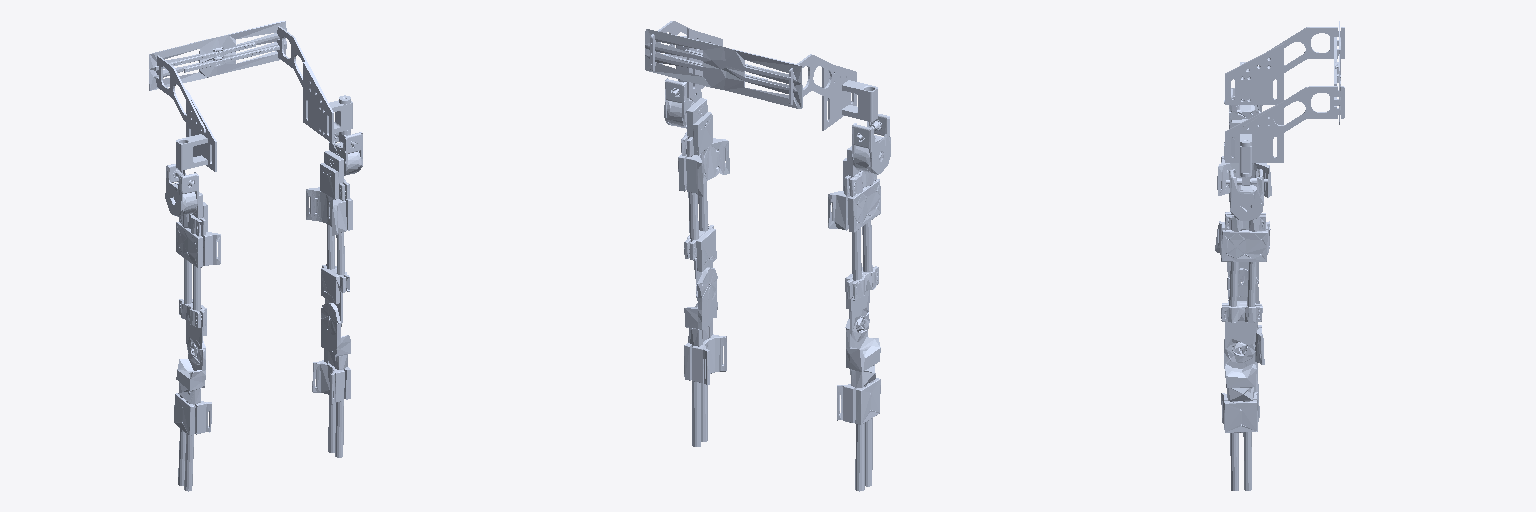
URDF robot description (assembly):
<?xml version="1.0" encoding="utf-8"?>
<!-- This URDF was automatically created by SolidWorks to URDF Exporter! Originally created by Stephen Brawner (brawner@gmail.com) 
     Commit Version: 1.6.0-4-g7f85cfe  Build Version: 1.6.7995.38578
     For more information, please see http://wiki.ros.org/sw_urdf_exporter -->
<robot name="assembly">
  <!-- MuJoCo-ready copy: Back_Plate COM fixed (exporter had it rotated 90 deg about x); meshes decimated to <=20k faces. -->
  <mujoco>
    <compiler discardvisual="false" fusestatic="false"/>
  </mujoco>
  <link
    name="Back_Plate_Link">
    <inertial>
      <origin
        xyz="0.714903 -1.346701 0.967937"
        rpy="0 0 0" />
      <mass
        value="0.792603624113177" />
      <inertia
        ixx="0.00122103079827944"
        ixy="6.22905706953202E-12"
        ixz="9.44022368871922E-13"
        iyy="0.0140755252395713"
        iyz="-8.39352655854368E-13"
        izz="0.0152909410531872" />
    </inertial>
    <visual>
      <origin
        xyz="0 0 0"
        rpy="0 0 0" />
      <geometry>
        <mesh
          filename="meshes_hi/Back_Plate_Link.STL" />
      </geometry>
      <material
        name="6061 Alloy">
        <color
          rgba="0.866666666666667 0.909803921568627 1 1" />
      </material>
    </visual>
    <collision>
      <origin
        xyz="0 0 0"
        rpy="0 0 0" />
      <geometry>
        <mesh
          filename="meshes_hi/Back_Plate_Link.STL" />
      </geometry>
    </collision>
  </link>
  <link
    name="Right_HChassie_Link">
    <inertial>
      <origin
        xyz="-0.340645498166956 1.08820934822623 1.07981890118726"
        rpy="0 0 0" />
      <mass
        value="1.20142649065134" />
      <inertia
        ixx="0.00503889722604952"
        ixy="4.55842701528502E-08"
        ixz="-5.98619048124899E-08"
        iyy="0.00412237382055005"
        iyz="-0.00102232781580552"
        izz="0.00306837336250548" />
    </inertial>
    <visual>
      <origin
        xyz="0 0 0"
        rpy="0 0 0" />
      <geometry>
        <mesh
          filename="meshes_hi/Right_HChassie_Link.STL" />
      </geometry>
      <material
        name="6061 Alloy">
        <color
          rgba="0.866666666666667 0.909803921568627 1 1" />
      </material>
    </visual>
    <collision>
      <origin
        xyz="0 0 0"
        rpy="0 0 0" />
      <geometry>
        <mesh
          filename="meshes_hi/Right_HChassie_Link.STL" />
      </geometry>
    </collision>
  </link>
  <joint
    name="Righ_HChassie_Joint"
    type="prismatic">
    <origin
      xyz="0.59014 -2.637 -0.22002"
      rpy="1.5708 0 3.1416" />
    <parent
      link="Back_Plate_Link" />
    <child
      link="Right_HChassie_Link" />
    <axis
      xyz="1 0 0" />
    <limit
      lower="-0.146"
      upper="0"
      effort="100"
      velocity="0.1" />
  </joint>
  <link
    name="Right_Hip_Shaft_Link">
    <inertial>
      <origin
        xyz="2.22044604925031E-16 0.076036762026722 0"
        rpy="0 0 0" />
      <mass
        value="0.247140054737339" />
      <inertia
        ixx="0.000313972001489882"
        ixy="1.95651237966424E-19"
        ixz="-5.9292306307801E-21"
        iyy="2.97646250879029E-05"
        iyz="-3.28473448023238E-20"
        izz="0.00031429004293536" />
    </inertial>
    <visual>
      <origin
        xyz="0 0 0"
        rpy="0 0 0" />
      <geometry>
        <mesh
          filename="meshes_hi/Right_Hip_Shaft_Link.STL" />
      </geometry>
      <material
        name="6061 Alloy">
        <color
          rgba="0.866666666666667 0.909803921568627 1 1" />
      </material>
    </visual>
    <collision>
      <origin
        xyz="0 0 0"
        rpy="0 0 0" />
      <geometry>
        <mesh
          filename="meshes_hi/Right_Hip_Shaft_Link.STL" />
      </geometry>
    </collision>
  </link>
  <joint
    name="Right_Hip_Shaft_Joint"
    type="continuous">
    <origin
      xyz="-0.40893 0.94591 1.0082"
      rpy="3.1416 -0.045286 3.1416" />
    <parent
      link="Right_HChassie_Link" />
    <child
      link="Right_Hip_Shaft_Link" />
    <axis
      xyz="0 1 0" />
    <limit
      lower="-3.14"
      upper="3.14"
      effort="10"
      velocity="2" />
  </joint>
  <link
    name="Right_Hip_Cycloidal_Link">
    <inertial>
      <origin
        xyz="0.00372968172523724 0.00134900887230516 -0.0502043322101461"
        rpy="0 0 0" />
      <mass
        value="1.37218388691195" />
      <inertia
        ixx="0.0020017716486344"
        ixy="6.57297567069337E-19"
        ixz="8.77550274032823E-07"
        iyy="0.00118182206614377"
        iyz="-3.31782805439509E-18"
        izz="0.00107675176037036" />
    </inertial>
    <visual>
      <origin
        xyz="0 0 0"
        rpy="0 0 0" />
      <geometry>
        <mesh
          filename="meshes_hi/Right_Hip_Cycloidal_Link.STL" />
      </geometry>
      <material
        name="6061 Alloy">
        <color
          rgba="0.866666666666667 0.909803921568627 1 1" />
      </material>
    </visual>
    <collision>
      <origin
        xyz="0 0 0"
        rpy="0 0 0" />
      <geometry>
        <mesh
          filename="meshes_hi/Right_Hip_Cycloidal_Link.STL" />
      </geometry>
    </collision>
  </link>
  <joint
    name="Right_Hip_Cycloidal_Joint"
    type="continuous">
    <origin
      xyz="0 0.01 0"
      rpy="-1.5708 0 -0.01203" />
    <parent
      link="Right_Hip_Shaft_Link" />
    <child
      link="Right_Hip_Cycloidal_Link" />
    <axis
      xyz="0 1 0" />
    <limit
      lower="-3.14"
      upper="3.14"
      effort="10"
      velocity="2" />
  </joint>
  <link
    name="Right_UpperLegs_Link">
    <inertial>
      <origin
        xyz="0.066916816701301 -0.19126826874915 0.0408400447349009"
        rpy="0 0 0" />
      <mass
        value="3.74720914353767" />
      <inertia
        ixx="0.00911486578364681"
        ixy="0.000435154304287347"
        ixz="-4.14724196337186E-05"
        iyy="0.00554512894074912"
        iyz="-0.000200225231117297"
        izz="0.00455048924924164" />
    </inertial>
    <visual>
      <origin
        xyz="0 0 0"
        rpy="0 0 0" />
      <geometry>
        <mesh
          filename="meshes_hi/Right_UpperLegs_Link.STL" />
      </geometry>
      <material
        name="6061Alloy">
        <color
          rgba="0.866666666666667 0.909803921568627 1 1" />
      </material>
    </visual>
    <collision>
      <origin
        xyz="0 0 0"
        rpy="0 0 0" />
      <geometry>
        <mesh
          filename="meshes_hi/Right_UpperLegs_Link.STL" />
      </geometry>
    </collision>
  </link>
  <joint
    name="Right_UpperLeggs_Joint"
    type="continuous">
    <origin
      xyz="0.00072176 0 -0.059996"
      rpy="1.7994 0.12036 -3.1282" />
    <parent
      link="Right_Hip_Cycloidal_Link" />
    <child
      link="Right_UpperLegs_Link" />
    <axis
      xyz="0.99268 0.11998 -0.01411" />
    <limit
      lower="-3.14"
      upper="3.14"
      effort="10"
      velocity="2" />
  </joint>
  <link
    name="Right_LowerLegs_Link">
    <inertial>
      <origin
        xyz="0.0528469326054373 -0.125543997314281 -0.0665849185486671"
        rpy="0 0 0" />
      <mass
        value="2.58484179824086" />
      <inertia
        ixx="0.00558005687408872"
        ixy="0.000344551524331608"
        ixz="3.71277929776553E-05"
        iyy="0.0026422262731878"
        iyz="-0.00058882120585065"
        izz="0.00347491115900776" />
    </inertial>
    <visual>
      <origin
        xyz="0 0 0"
        rpy="0 0 0" />
      <geometry>
        <mesh
          filename="meshes_hi/Right_LowerLegs_Link.STL" />
      </geometry>
      <material
        name="6061 Alloy">
        <color
          rgba="0.866666666666667 0.909803921568627 1 1" />
      </material>
    </visual>
    <collision>
      <origin
        xyz="0 0 0"
        rpy="0 0 0" />
      <geometry>
        <mesh
          filename="meshes_hi/Right_LowerLegs_Link.STL" />
      </geometry>
    </collision>
  </link>
  <joint
    name="Right_LowerLegs_Joint"
    type="continuous">
    <origin
      xyz="0.0624269529683414 -0.504608899331284 0.101211497466347"
      rpy="-0.699714864758003 -0.0743188968564324 0.0374775456024245" />
    <parent
      link="Right_UpperLegs_Link" />
    <child
      link="Right_LowerLegs_Link" />
    <axis
      xyz="0.992676350499628 0.119977339853611 -0.0141103182242711" />
    <limit
      lower="-3.14"
      upper="3.14"
      effort="10"
      velocity="2" />
  </joint>
  <link
    name="Left_HChassie_Link">
    <inertial>
      <origin
        xyz="0.0873319625663402 1.07435195288603 1.00400511216122"
        rpy="0 0 0" />
      <mass
        value="1.20142649065134" />
      <inertia
        ixx="0.00503889722604952"
        ixy="7.73044673509021E-08"
        ixz="9.38835059847482E-08"
        iyy="0.00412237382055004"
        iyz="0.00102232781580552"
        izz="0.00306837336250549" />
    </inertial>
    <visual>
      <origin
        xyz="0 0 0"
        rpy="0 0 0" />
      <geometry>
        <mesh
          filename="meshes_hi/Left_HChassie_Link.STL" />
      </geometry>
      <material
        name="">
        <color
          rgba="0.866666666666667 0.909803921568627 1 1" />
      </material>
    </visual>
    <collision>
      <origin
        xyz="0 0 0"
        rpy="0 0 0" />
      <geometry>
        <mesh
          filename="meshes_hi/Left_HChassie_Link.STL" />
      </geometry>
    </collision>
  </link>
  <joint
    name="Left_HChassie_Joint"
    type="prismatic">
    <origin
      xyz="0.411798024682421 -0.55313346003615 -0.204183646873211"
      rpy="1.5707963267949 0 0" />
    <parent
      link="Back_Plate_Link" />
    <child
      link="Left_HChassie_Link" />
    <axis
      xyz="1 0 0" />
    <limit
      lower="-0.145907420396912"
      upper="9.25796030877835E-05"
      effort="100"
      velocity="0.1" />
  </joint>
  <link
    name="Left_Hip_Shaft_Link">
    <inertial>
      <origin
        xyz="5.55111512312578E-17 0.076036762026722 0"
        rpy="0 0 0" />
      <mass
        value="0.247140054737338" />
      <inertia
        ixx="0.00031397200148988"
        ixy="-2.18064809992444E-19"
        ixz="-8.470329472543E-22"
        iyy="2.97646250879028E-05"
        iyz="-2.62407495947966E-19"
        izz="0.000314290042935358" />
    </inertial>
    <visual>
      <origin
        xyz="0 0 0"
        rpy="0 0 0" />
      <geometry>
        <mesh
          filename="meshes_hi/Left_Hip_Shaft_Link.STL" />
      </geometry>
      <material
        name="6061 Alloy">
        <color
          rgba="0.866666666666667 0.909803921568627 1 1" />
      </material>
    </visual>
    <collision>
      <origin
        xyz="0 0 0"
        rpy="0 0 0" />
      <geometry>
        <mesh
          filename="meshes_hi/Left_Hip_Shaft_Link.STL" />
      </geometry>
    </collision>
  </link>
  <joint
    name="Left_Hip_Shaft_Joint"
    type="continuous">
    <origin
      xyz="0.01905 0.930079169496317 1.07560667569494"
      rpy="0 -0.0220774113649122 0" />
    <parent
      link="Left_HChassie_Link" />
    <child
      link="Left_Hip_Shaft_Link" />
    <axis
      xyz="0 1 0" />
    <limit
      lower="-3.14"
      upper="3.14"
      effort="100"
      velocity="1" />
  </joint>
  <link
    name="Left_Hip_Cycloidal_Link">
    <inertial>
      <origin
        xyz="0.00380430722148767 0.0013490088723016 -0.0502044658167942"
        rpy="0 0 0" />
      <mass
        value="1.37218388691195" />
      <inertia
        ixx="0.00200177164863441"
        ixy="4.74338450462408E-20"
        ixz="8.77550274032169E-07"
        iyy="0.00118182206614377"
        iyz="-4.97486272724092E-18"
        izz="0.00107675176037037" />
    </inertial>
    <visual>
      <origin
        xyz="0 0 0"
        rpy="0 0 0" />
      <geometry>
        <mesh
          filename="meshes_hi/Left_Hip_Cycloidal_Link.STL" />
      </geometry>
      <material
        name="6061 Alloy">
        <color
          rgba="0.866666666666667 0.909803921568627 1 1" />
      </material>
    </visual>
    <collision>
      <origin
        xyz="0 0 0"
        rpy="0 0 0" />
      <geometry>
        <mesh
          filename="meshes_hi/Left_Hip_Cycloidal_Link.STL" />
      </geometry>
    </collision>
  </link>
  <joint
    name="Left_Hip_Cycloidal_Joint"
    type="continuous">
    <origin
      xyz="0 0.01 0"
      rpy="1.5707963267949 0 3.12598229505127" />
    <parent
      link="Left_Hip_Shaft_Link" />
    <child
      link="Left_Hip_Cycloidal_Link" />
    <axis
      xyz="0 1 0" />
    <limit
      lower="-3.14"
      upper="3.14"
      effort="10"
      velocity="2" />
  </joint>
  <link
    name="Left_UpperLegs_Link">
    <inertial>
      <origin
        xyz="0.0652070830416887 -0.191590811658865 0.0406315340128633"
        rpy="0 0 0" />
      <mass
        value="3.74720965466508" />
      <inertia
        ixx="0.00911486645574242"
        ixy="0.000435154355179876"
        ixz="-4.14723452963794E-05"
        iyy="0.00554512942075892"
        iyz="-0.0002002255176868"
        izz="0.00455048954212254" />
    </inertial>
    <visual>
      <origin
        xyz="0 0 0"
        rpy="0 0 0" />
      <geometry>
        <mesh
          filename="meshes_hi/Left_UpperLegs_Link.STL" />
      </geometry>
      <material
        name="6061 Alloy">
        <color
          rgba="0.866666666666667 0.909803921568627 1 1" />
      </material>
    </visual>
    <collision>
      <origin
        xyz="0 0 0"
        rpy="0 0 0" />
      <geometry>
        <mesh
          filename="meshes_hi/Left_UpperLegs_Link.STL" />
      </geometry>
    </collision>
  </link>
  <joint
    name="Left_UpperLegs_Joint"
    type="continuous">
    <origin
      xyz="-0.000936583472938901 0 -0.0599926896496419"
      rpy="1.75162061268028 0.120856376290697 -3.13389605568639" />
    <parent
      link="Left_Hip_Cycloidal_Link" />
    <child
      link="Left_UpperLegs_Link" />
    <axis
      xyz="0.992676350499629 0.119977339853606 -0.0141103182242561" />
    <limit
      lower="-3.14"
      upper="3.14"
      effort="10"
      velocity="2" />
  </joint>
  <link
    name="Left_LowerLegs_Link">
    <inertial>
      <origin
        xyz="0.0511266539974181 -0.12575191371004 -0.0665604656294172"
        rpy="0 0 0" />
      <mass
        value="2.5848417667501" />
      <inertia
        ixx="0.00558005687304269"
        ixy="0.000344551509902078"
        ixz="3.71277762146219E-05"
        iyy="0.00264222628743292"
        iyz="-0.000588821195383592"
        izz="0.00347491115936925" />
    </inertial>
    <visual>
      <origin
        xyz="0 0 0"
        rpy="0 0 0" />
      <geometry>
        <mesh
          filename="meshes_hi/Left_LowerLegs_Link.STL" />
      </geometry>
      <material
        name="6061 Alloy">
        <color
          rgba="0.866666666666667 0.909803921568627 1 1" />
      </material>
    </visual>
    <collision>
      <origin
        xyz="0 0 0"
        rpy="0 0 0" />
      <geometry>
        <mesh
          filename="meshes_hi/Left_LowerLegs_Link.STL" />
      </geometry>
    </collision>
  </link>
  <joint
    name="Left_LowerLegs_Joint"
    type="continuous">
    <origin
      xyz="0.062437496245694 -0.504723531016868 0.100978537262008"
      rpy="-0.602388430252528 -0.0658539572613486 0.0292800944407881" />
    <parent
      link="Left_UpperLegs_Link" />
    <child
      link="Left_LowerLegs_Link" />
    <axis
      xyz="0.992676350499629 0.119977339853609 -0.0141103182242607" />
    <limit
      lower="-3.14"
      upper="3.14"
      effort="10"
      velocity="2" />
  </joint>
</robot>

--- Facts derived from the render (not from the file) ---
The picture shows the robot from 3 angles, left to right: view 1: azimuth 30°, elevation 25°; view 2: azimuth 150°, elevation 25°; view 3: azimuth 270°, elevation 25°; orthographic projection.
Robot: assembly — 11 links, 10 joints (8 continuous, 2 prismatic); root link Back_Plate_Link; default pose: every joint at zero.
Links seen in each view (by area): view 1: Right_UpperLegs_Link, Left_UpperLegs_Link, Right_LowerLegs_Link, Back_Plate_Link, Right_HChassie_Link, Left_LowerLegs_Link, Left_HChassie_Link, Left_Hip_Cycloidal_Link, Right_Hip_Cycloidal_Link; view 2: Back_Plate_Link, Right_UpperLegs_Link, Left_UpperLegs_Link, Left_LowerLegs_Link, Right_LowerLegs_Link, Left_HChassie_Link, Left_Hip_Cycloidal_Link, Right_HChassie_Link, Right_Hip_Cycloidal_Link; view 3: Right_UpperLegs_Link, Left_HChassie_Link, Right_HChassie_Link, Right_LowerLegs_Link, Right_Hip_Cycloidal_Link, Left_UpperLegs_Link, Left_LowerLegs_Link.
Link boxes in pixels (bbox=[...]): Right_UpperLegs_Link: bbox=[306, 150, 352, 326]; Left_UpperLegs_Link: bbox=[176, 192, 220, 364]; Right_LowerLegs_Link: bbox=[312, 303, 350, 457]; Back_Plate_Link: bbox=[149, 21, 286, 90]; Right_HChassie_Link: bbox=[184, 26, 352, 143]; Left_LowerLegs_Link: bbox=[174, 341, 211, 491]; Left_HChassie_Link: bbox=[155, 42, 255, 171]; Left_Hip_Cycloidal_Link: bbox=[165, 164, 198, 216]; Right_Hip_Cycloidal_Link: bbox=[329, 132, 362, 175]; Back_Plate_Link: bbox=[645, 29, 802, 108]; Right_UpperLegs_Link: bbox=[678, 98, 729, 300]; Left_UpperLegs_Link: bbox=[828, 146, 880, 341]; Left_LowerLegs_Link: bbox=[837, 316, 880, 491]; Right_LowerLegs_Link: bbox=[684, 267, 726, 446]; Left_HChassie_Link: bbox=[685, 49, 877, 130]; Left_Hip_Cycloidal_Link: bbox=[852, 114, 890, 174]; Right_HChassie_Link: bbox=[650, 21, 767, 97]; Right_Hip_Cycloidal_Link: bbox=[664, 78, 701, 128]; Right_UpperLegs_Link: bbox=[1215, 212, 1270, 362]; Left_HChassie_Link: bbox=[1225, 27, 1344, 104]; Right_HChassie_Link: bbox=[1225, 86, 1344, 172]; Right_LowerLegs_Link: bbox=[1221, 342, 1258, 490]; Right_Hip_Cycloidal_Link: bbox=[1226, 169, 1267, 220]; Left_UpperLegs_Link: bbox=[1217, 120, 1271, 283]; Left_LowerLegs_Link: bbox=[1227, 268, 1264, 417].
Bounding box of the posed robot: 0.6427 × 0.3939 × 1.34 m (x, y, z).
10 mesh visuals loaded from 11 distinct referenced files (10 binary STL); not drawn: 1 (reference not matched to a file when rendering).
